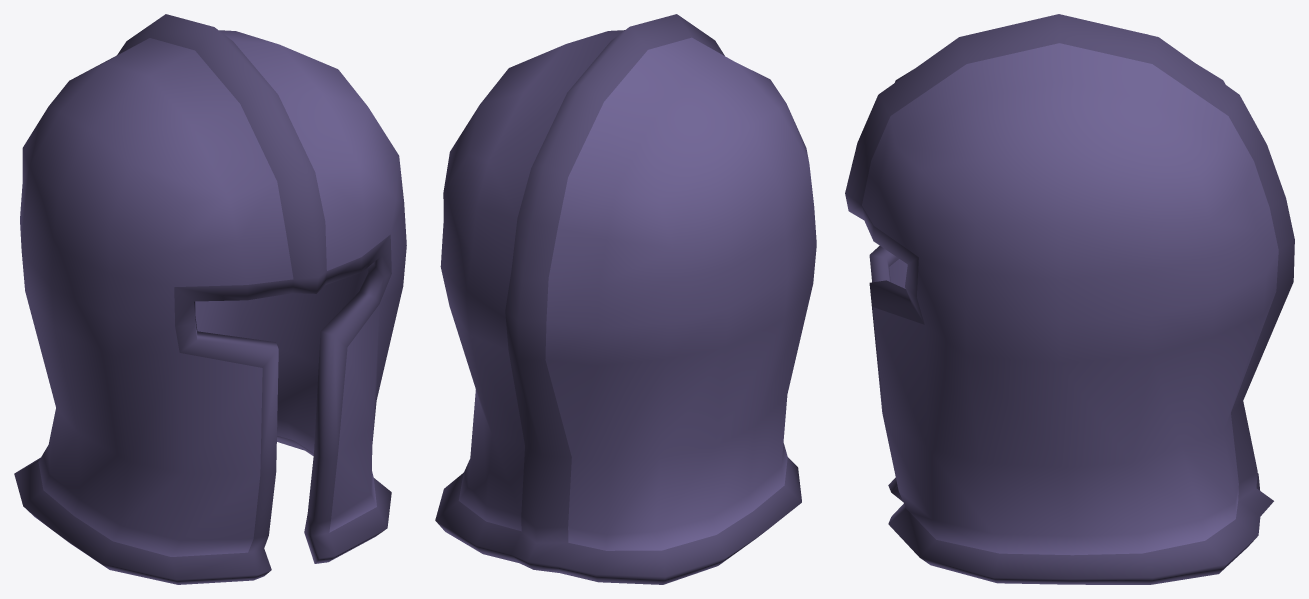
File: helmet2.fbx
3 views of the same model, side by side, from view 1: azimuth 30°, elevation 25°; view 2: azimuth 150°, elevation 25°; view 3: azimuth 270°, elevation 25° (orthographic). The views are drawn at different scales.
Visible parts, largest first — view 1: Helmet.001; view 2: Helmet.001; view 3: Helmet.001.
Boxes of the visible parts, x1,y1,x2,y2 form: Helmet.001: [14, 14, 406, 584]; Helmet.001: [435, 14, 816, 584]; Helmet.001: [845, 14, 1294, 584].
Bounding box in the file's own units: 21.23 × 30.55 × 24.72.
